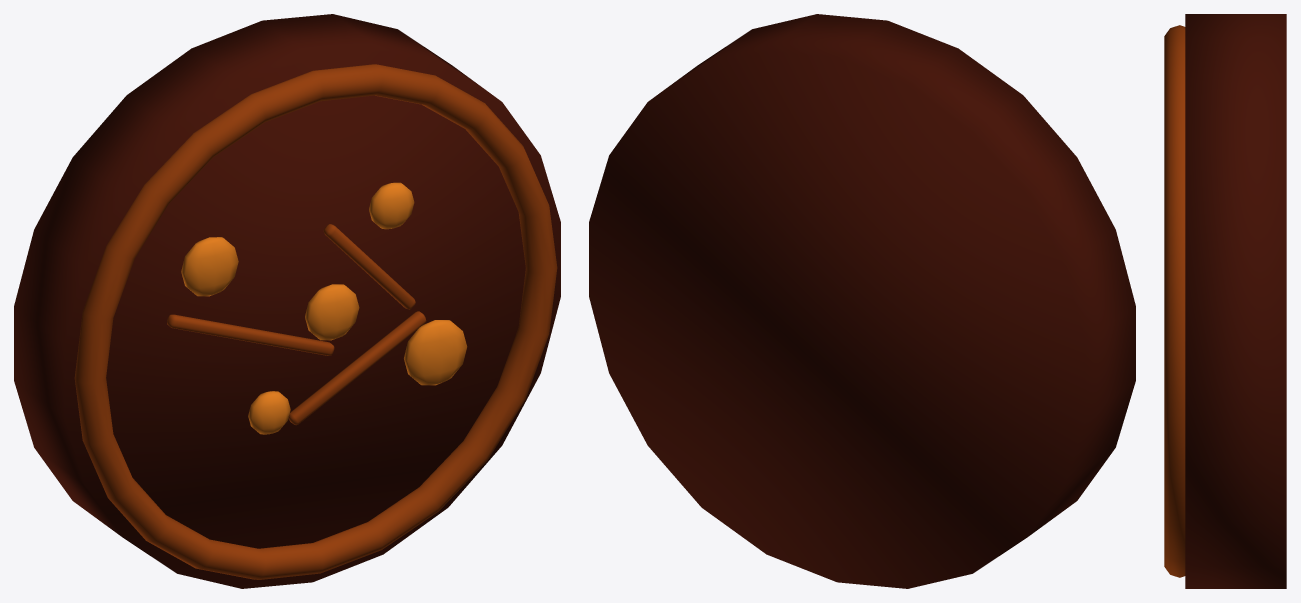
Rendered from cookie.fbx.
The picture shows the model from 3 angles, left to right: view 1: azimuth 30°, elevation 25°; view 2: azimuth 150°, elevation 25°; view 3: azimuth 270°, elevation 25°; orthographic projection.
Visible parts, largest first — view 1: cookie; view 2: cookie; view 3: cookie.
Boxes of the visible parts, <box> form: cookie: <box>14,14,560,588</box>; cookie: <box>589,14,1135,588</box>; cookie: <box>1164,14,1286,588</box>.
Bounding box in the file's own units: 98.98 × 100 × 21.11.
